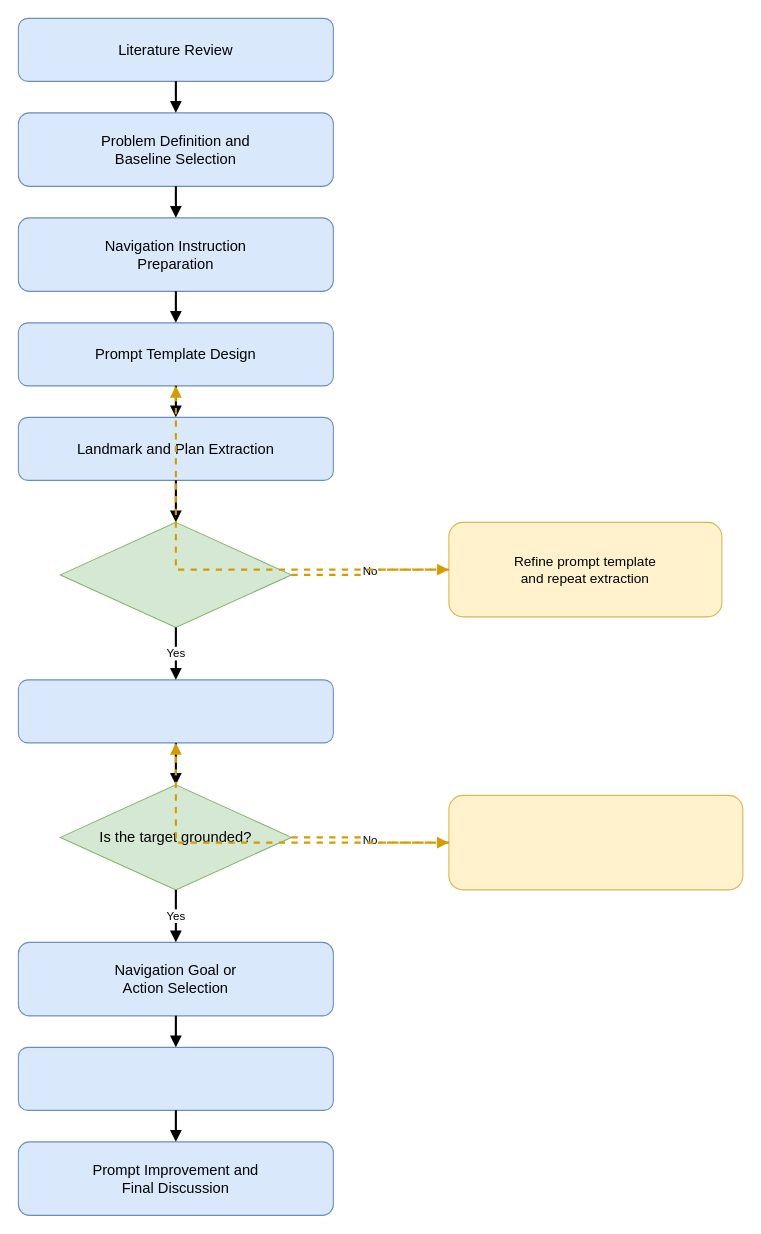
Image size: 761x1234. Some labels were removed from this diagram. Here are the shapes that lost their labels. From the top down, the box of each, then its label:
(59, 521, 291, 627): Is the output valid?
(17, 679, 333, 743): Vision-Language Grounding
(448, 794, 743, 890): Expand text query or review candidate observations
(17, 1046, 333, 1110): Testing, Evaluation, and Analysis
